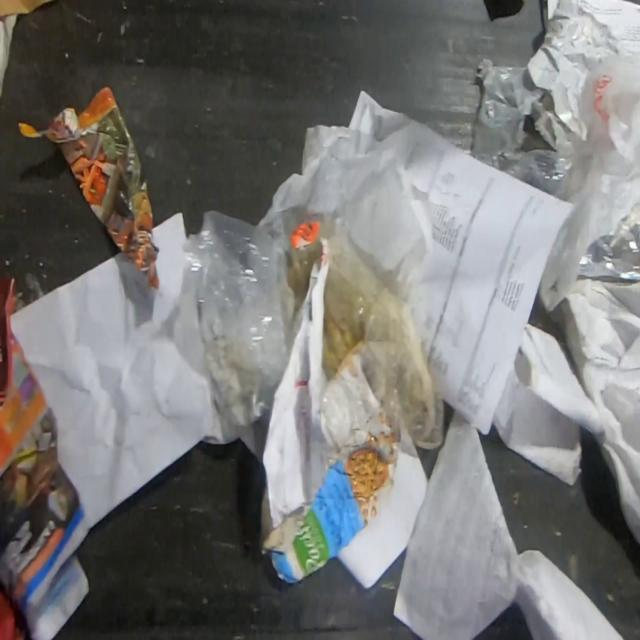cardboard: (260, 256, 390, 528), (258, 429, 400, 583)
soft_plastic: (287, 212, 447, 459), (168, 208, 290, 441), (534, 49, 640, 314), (469, 57, 573, 200), (577, 201, 640, 282)
